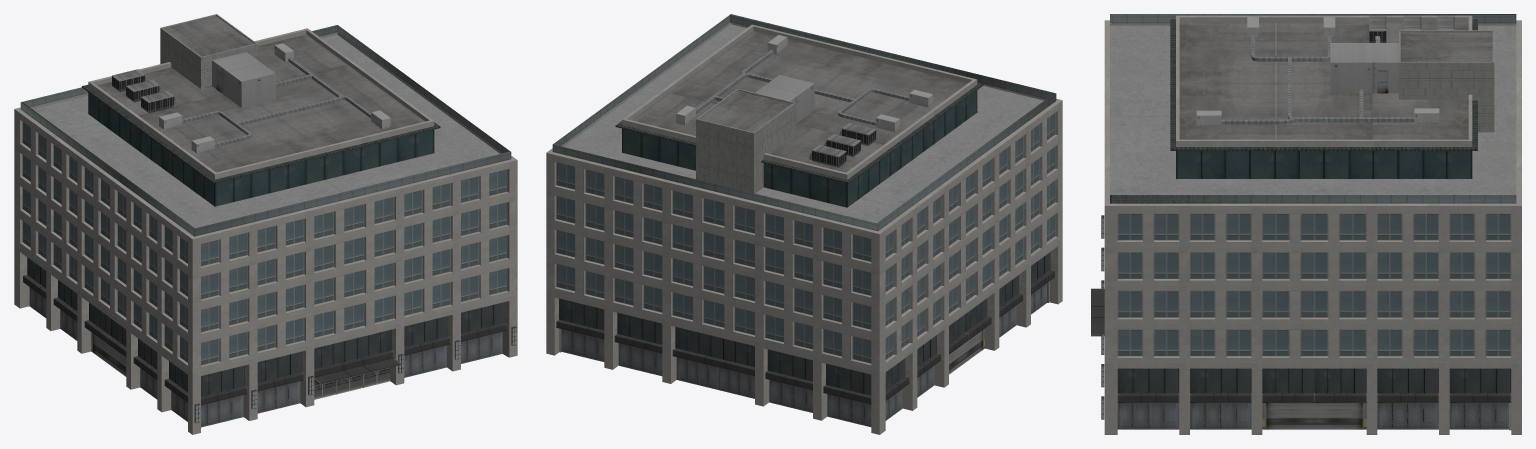
The model's file is office-l5.glb.
3 views of the same model, side by side, from view 1: azimuth 30°, elevation 25°; view 2: azimuth 150°, elevation 25°; view 3: azimuth 270°, elevation 25° (orthographic). The views are drawn at different scales.
Parts seen in each view (by area): view 1: AIT01W2W3_AIT01W2W3_0; view 2: AIT01W2W3_AIT01W2W3_0; view 3: AIT01W2W3_AIT01W2W3_0.
Boxes of the visible parts, x1=… form: AIT01W2W3_AIT01W2W3_0: x1=14, y1=14, x2=517, y2=434; AIT01W2W3_AIT01W2W3_0: x1=546, y1=14, x2=1062, y2=434; AIT01W2W3_AIT01W2W3_0: x1=1091, y1=14, x2=1521, y2=434.
Bounding box in the file's own units: 32 × 23.76 × 31.37.
1 material, 1 textured.
